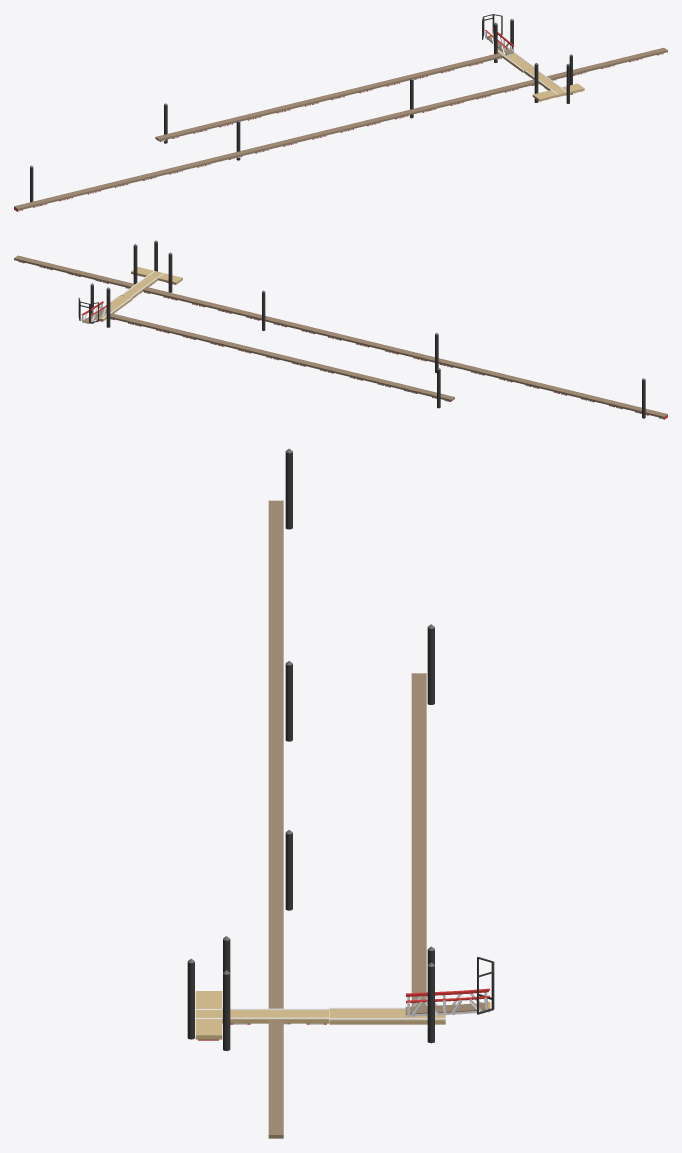
The model's file is pier1.glb.
3 renders of one model, top to bottom at view 1: azimuth 30°, elevation 25°; view 2: azimuth 150°, elevation 25°; view 3: azimuth 270°, elevation 25°, orthographic. The views are drawn at different scales.
Parts seen in each view (by area): view 1: Cube.022, Cube.001, Cube.079, Cube.067, Cube.002; view 2: Cube.022, Cube.001, Cube.067, Cube.079, Cube.002; view 3: Cube.022, Cube.001, Cube.079, Cube.067, Cube.002.
Part boxes in pixels (<box>): Cube.022: <box>14,79,539,210</box>; Cube.001: <box>155,53,502,141</box>; Cube.079: <box>524,68,584,101</box>; Cube.067: <box>547,47,667,80</box>; Cube.002: <box>497,47,534,72</box>; Cube.022: <box>143,287,667,418</box>; Cube.001: <box>110,313,454,401</box>; Cube.067: <box>14,255,134,288</box>; Cube.079: <box>121,267,182,298</box>; Cube.002: <box>96,295,132,321</box>; Cube.022: <box>268,500,283,1008</box>; Cube.001: <box>411,673,426,1006</box>; Cube.079: <box>195,991,328,1039</box>; Cube.067: <box>268,1019,283,1138</box>; Cube.002: <box>329,1007,445,1024</box>.
Size of the model in its own units: 199 by 13.1 by 40.63.
1 material, 1 textured.
